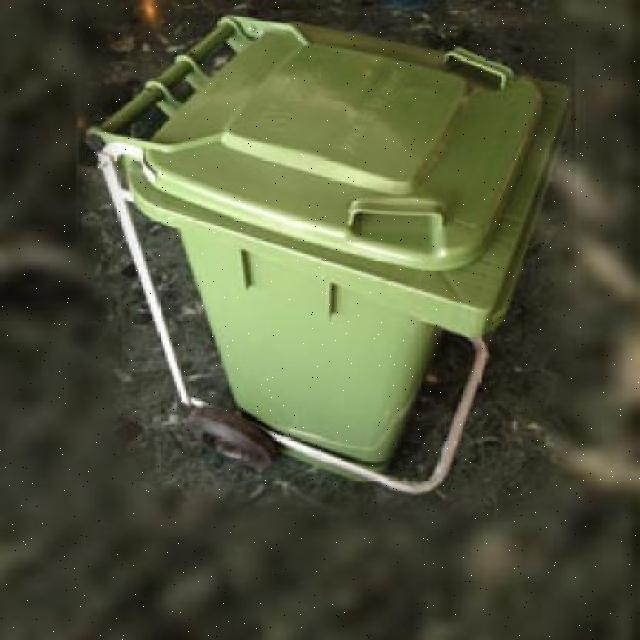garbage container: (78, 13, 592, 521)
